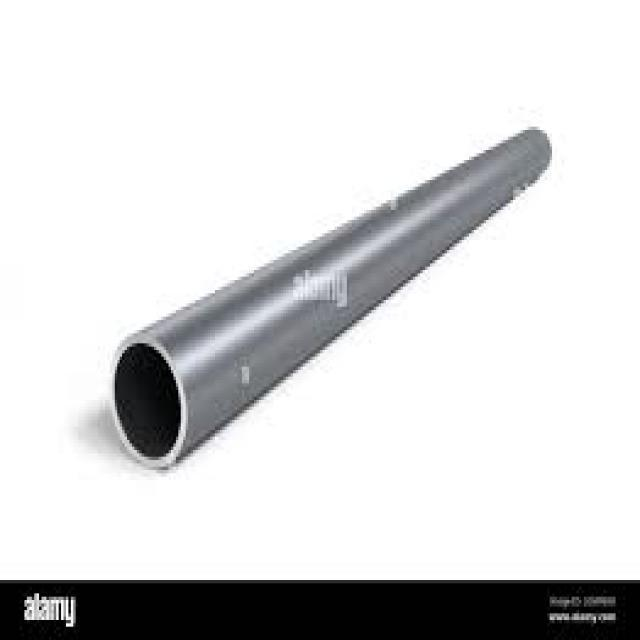pipe: (114, 344, 181, 458)
